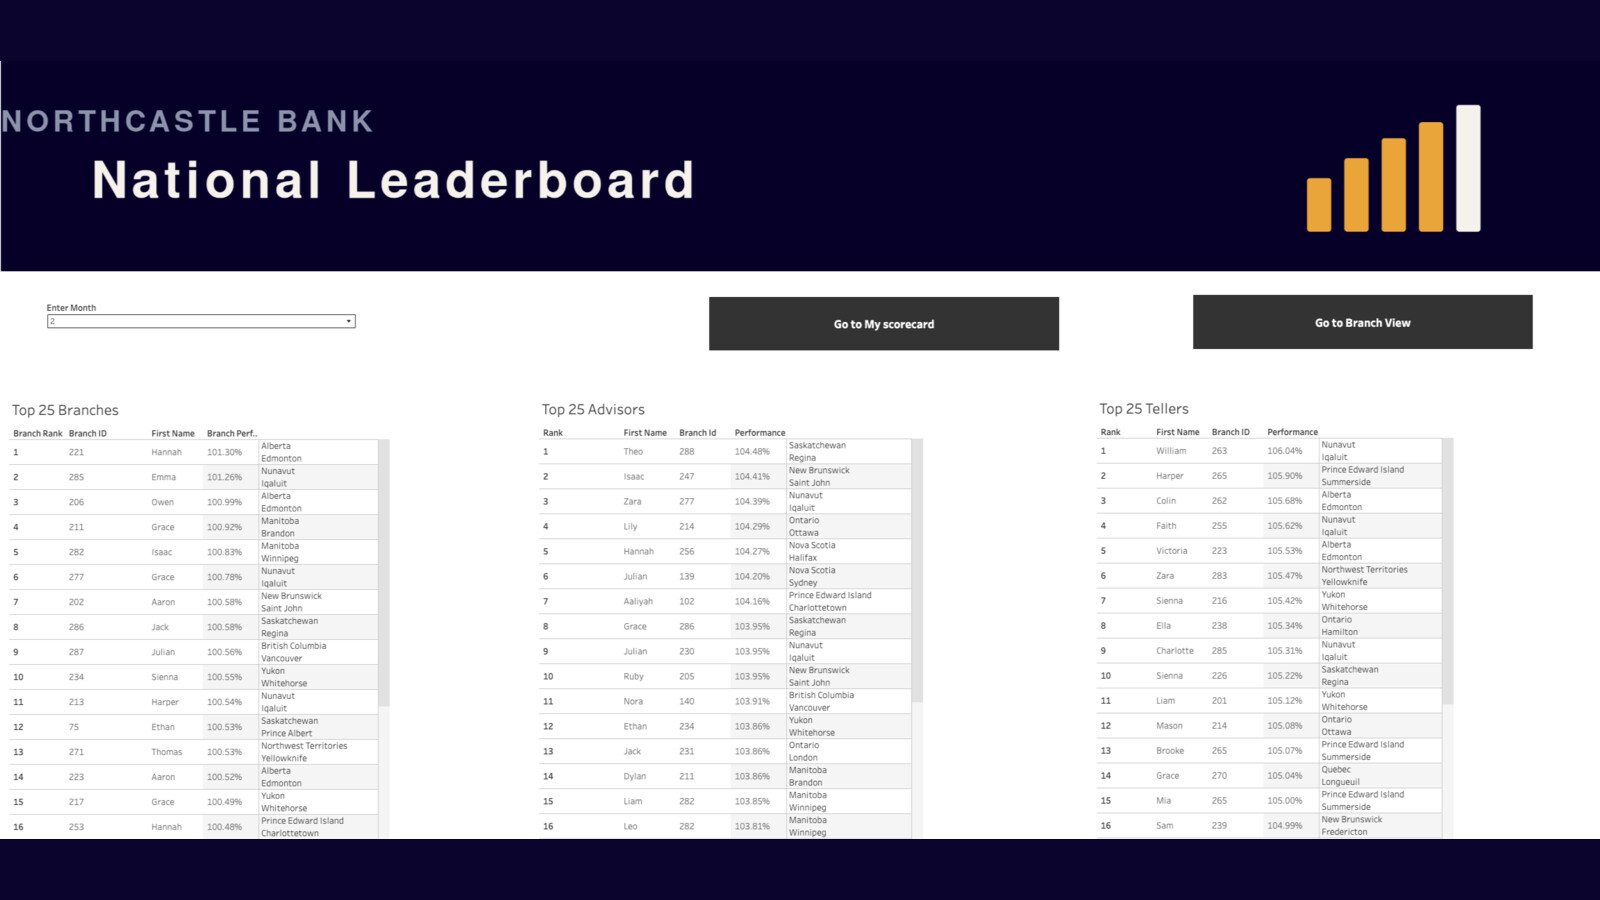

The dashboard page shown, as its layout file describes it:
{"tool":"powerbi","page":{"name":"Leaderboard","canvas":[1280,720],"ordinal":3},"visuals":[{"type":"image","box":[0,0,1280,124],"z":0},{"type":"tableEx","title":"Top 25 Branchs","fields":{"Values":["fact_sales.Branch Rank","dim_employee.Manager Name","fact_sales.Branch Score","dim_branch.branch_code"]},"box":[0,191.5,436.6,528.1],"z":1000},{"type":"slicer","title":"Select Month","fields":{"Values":["dim_month.month_number"]},"box":[21.3,123.8,212.2,67.7],"z":2000},{"type":"tableEx","title":"Top 25 Advisors","fields":{"Values":["fact_sales.Rank in Role","dim_employee.Name","fact_sales.Weighted Score","dim_branch.branch_code"]},"box":[436.6,191.5,434.6,528.1],"z":3000},{"type":"tableEx","title":"Top 25 Tellers","fields":{"Values":["fact_sales.Rank in Role","dim_employee.Name","fact_sales.Weighted Score","dim_branch.branch_code"]},"box":[871.2,191.5,408.8,528.1],"z":4000},{"type":"pageNavigator","box":[260.5,128.3,1000.1,50.3],"z":5000}]}

Visuals, with their boxes in screenshot pixels (x1, y1, x2, y2), scaled from the page's 1280x720 canvas onto the 1600x900 screenshot:
image: select_region(0, 0, 1599, 155)
"Top 25 Branchs" tableEx: select_region(0, 239, 546, 899)
"Select Month" slicer: select_region(27, 155, 292, 239)
"Top 25 Advisors" tableEx: select_region(546, 239, 1089, 899)
"Top 25 Tellers" tableEx: select_region(1089, 239, 1599, 899)
pageNavigator: select_region(326, 160, 1576, 223)
